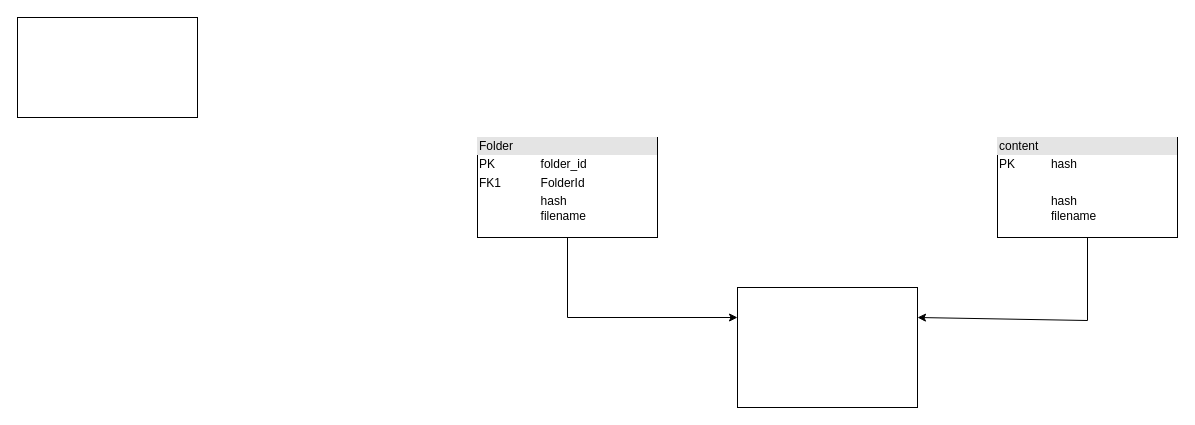
The diagram is 1195 pixels wide and 425 high, and some of its shapes have lost their labels. The shapes that lost their labels are listed below. From the top down, each one's centre as x and y in pixels, then its label:
At [107,67]: "Commit PK commit_id FK1 FolderId hash filename".
At [827,347]: "File PK file_id FK1 FK2 folderId content_hash row filename".
